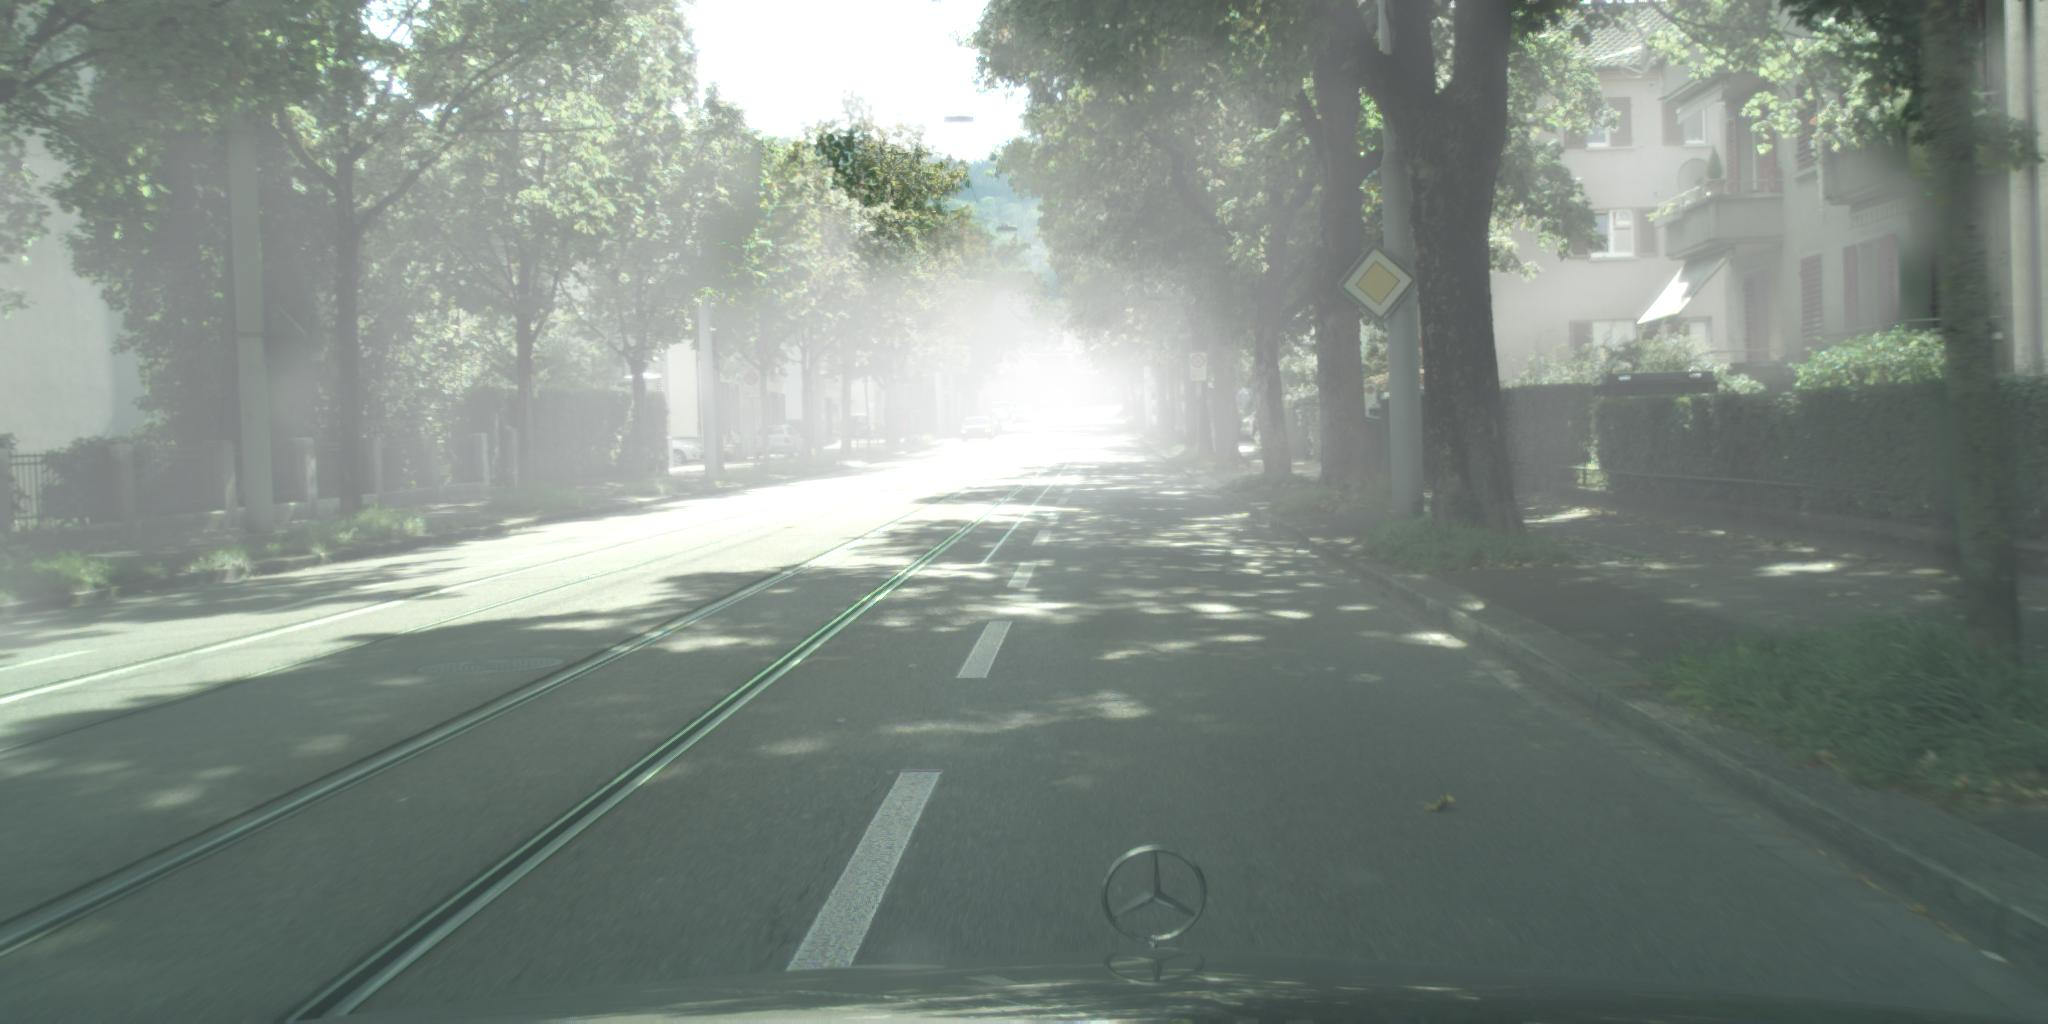car: (754, 423, 808, 461), (664, 436, 709, 468), (960, 415, 997, 444), (1242, 417, 1273, 445), (850, 415, 874, 440), (1010, 406, 1032, 424), (984, 422, 1003, 438), (1061, 398, 1076, 410)
